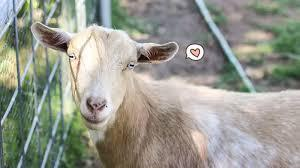Sheep: (25, 18, 180, 128)
